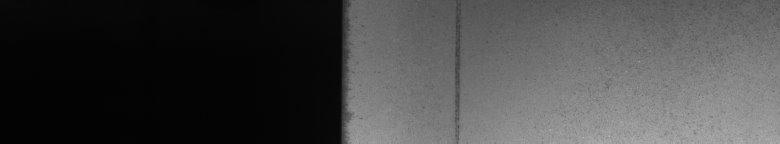hd: (451, 4, 464, 136)
